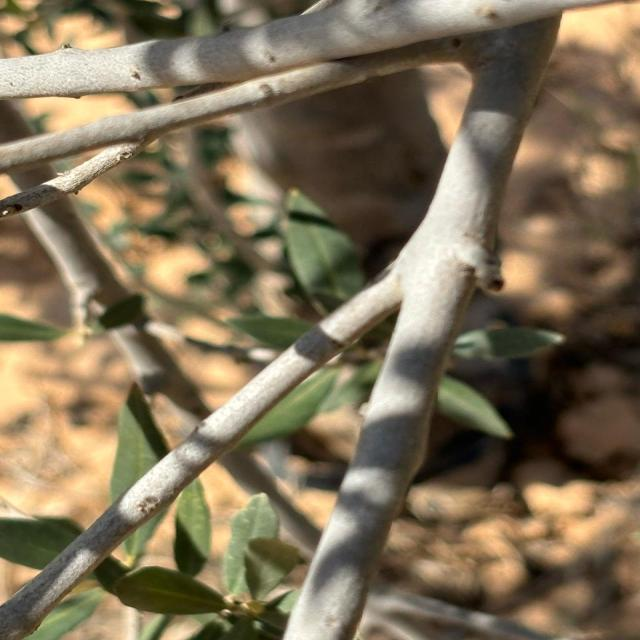Healthy: (0, 101, 517, 640)
